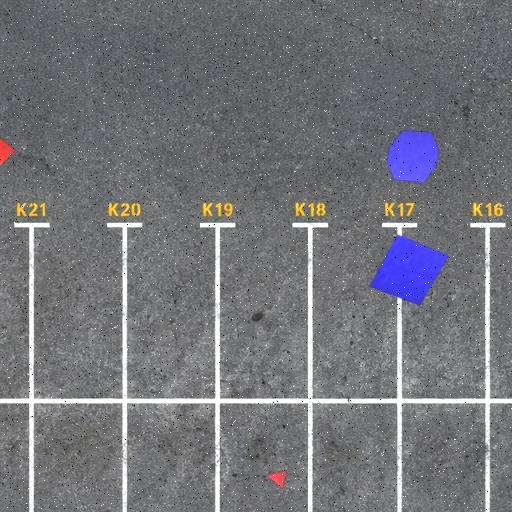BLUE_SQUARE: (368, 234, 450, 306)
RED_SQUARE: (0, 134, 17, 172)
